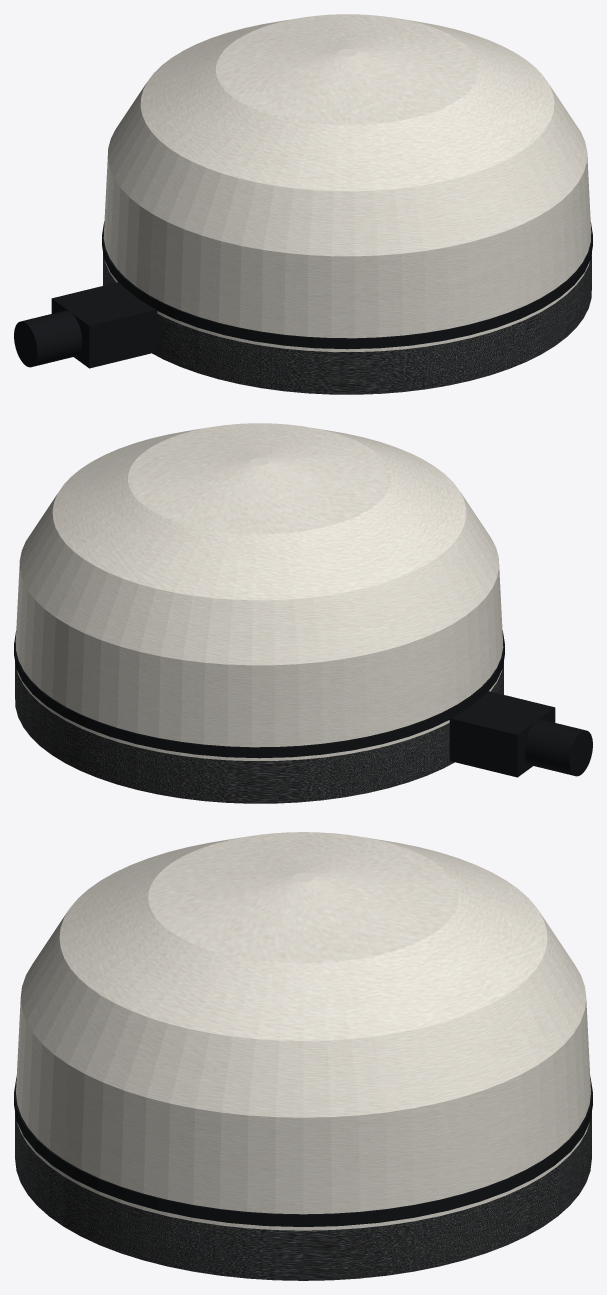
File: gps_link.dae
The picture shows the model from 3 angles, top to bottom: view 1: azimuth 30°, elevation 25°; view 2: azimuth 150°, elevation 25°; view 3: azimuth 270°, elevation 25°; orthographic projection. The views are drawn at different scales.
Visible parts, largest first — view 1: gps_link_white, gps_link_black, gps_link_rubber; view 2: gps_link_white, gps_link_black, gps_link_rubber; view 3: gps_link_white, gps_link_black, gps_link_rubber.
Boxes of the visible parts, box(x1,y1,x2,y2) form: gps_link_white: box(103, 14, 591, 351); gps_link_black: box(103, 253, 591, 394); gps_link_rubber: box(14, 221, 592, 368); gps_link_white: box(15, 423, 503, 760); gps_link_black: box(15, 662, 503, 803); gps_link_rubber: box(14, 630, 592, 777); gps_link_white: box(16, 832, 590, 1230); gps_link_black: box(15, 1112, 591, 1280); gps_link_rubber: box(14, 1077, 592, 1226).
Size of the model in its own units: 0.0656 by 0.0522 by 0.03.
3 materials, 2 textured.
